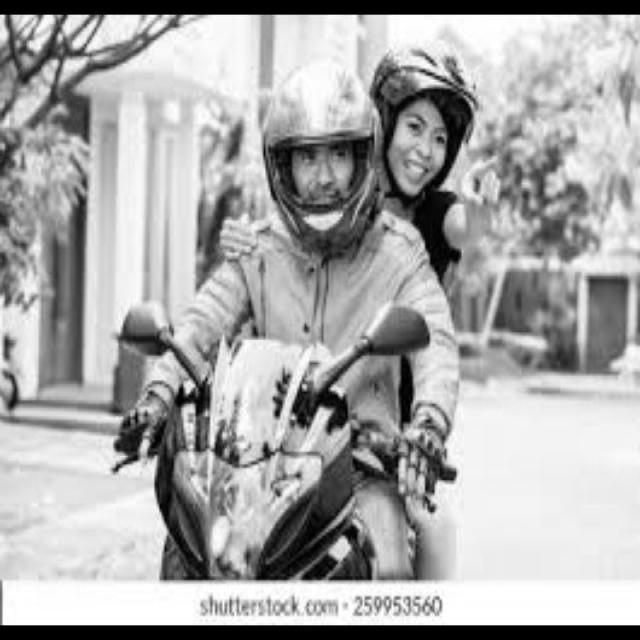5_casco: (252, 58, 386, 258)
